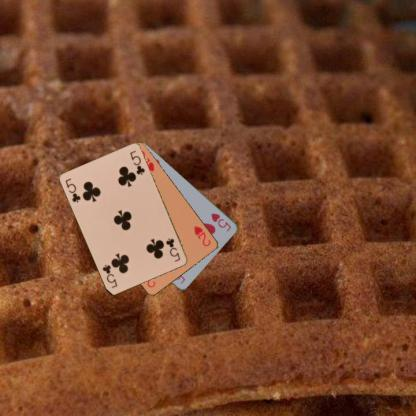2h: (192, 223, 212, 248)
5c: (63, 176, 82, 204), (164, 236, 182, 263)
5h: (209, 210, 232, 233)
